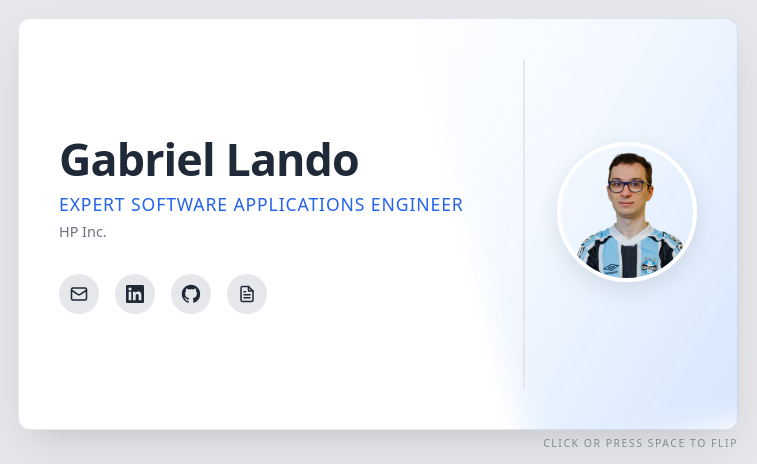
Test case: Back card content › renders the first skill
The width and height of the screenshot is (757, 464).
What coordinates should you click on to do the following:
click the button
I would click on:
 (378, 224)
Its box is [18,18,738,430].
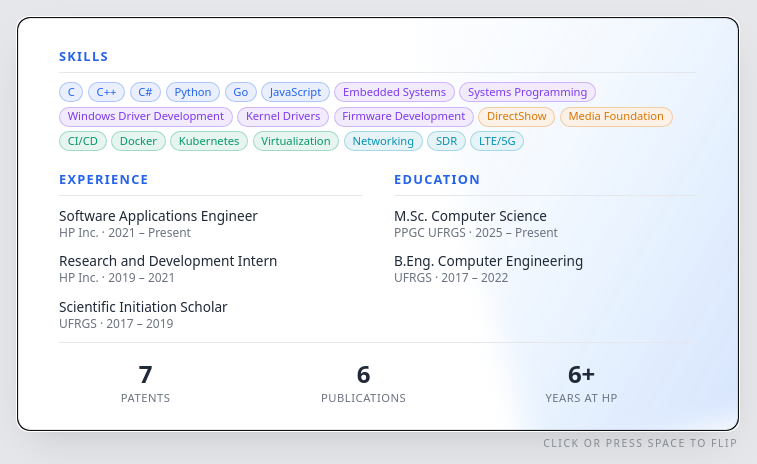
Expected: the text "C" is shown, [59,82,83,102]
